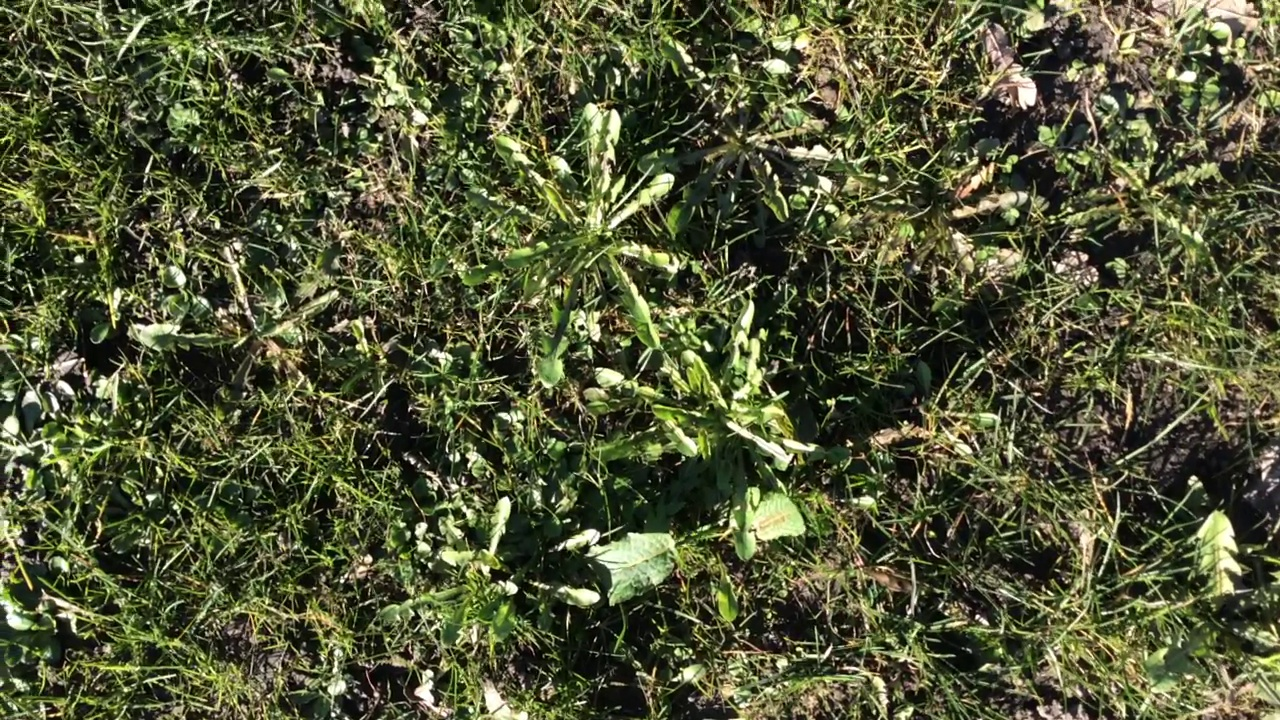rumex: (565, 531, 680, 600), (738, 494, 806, 543)
